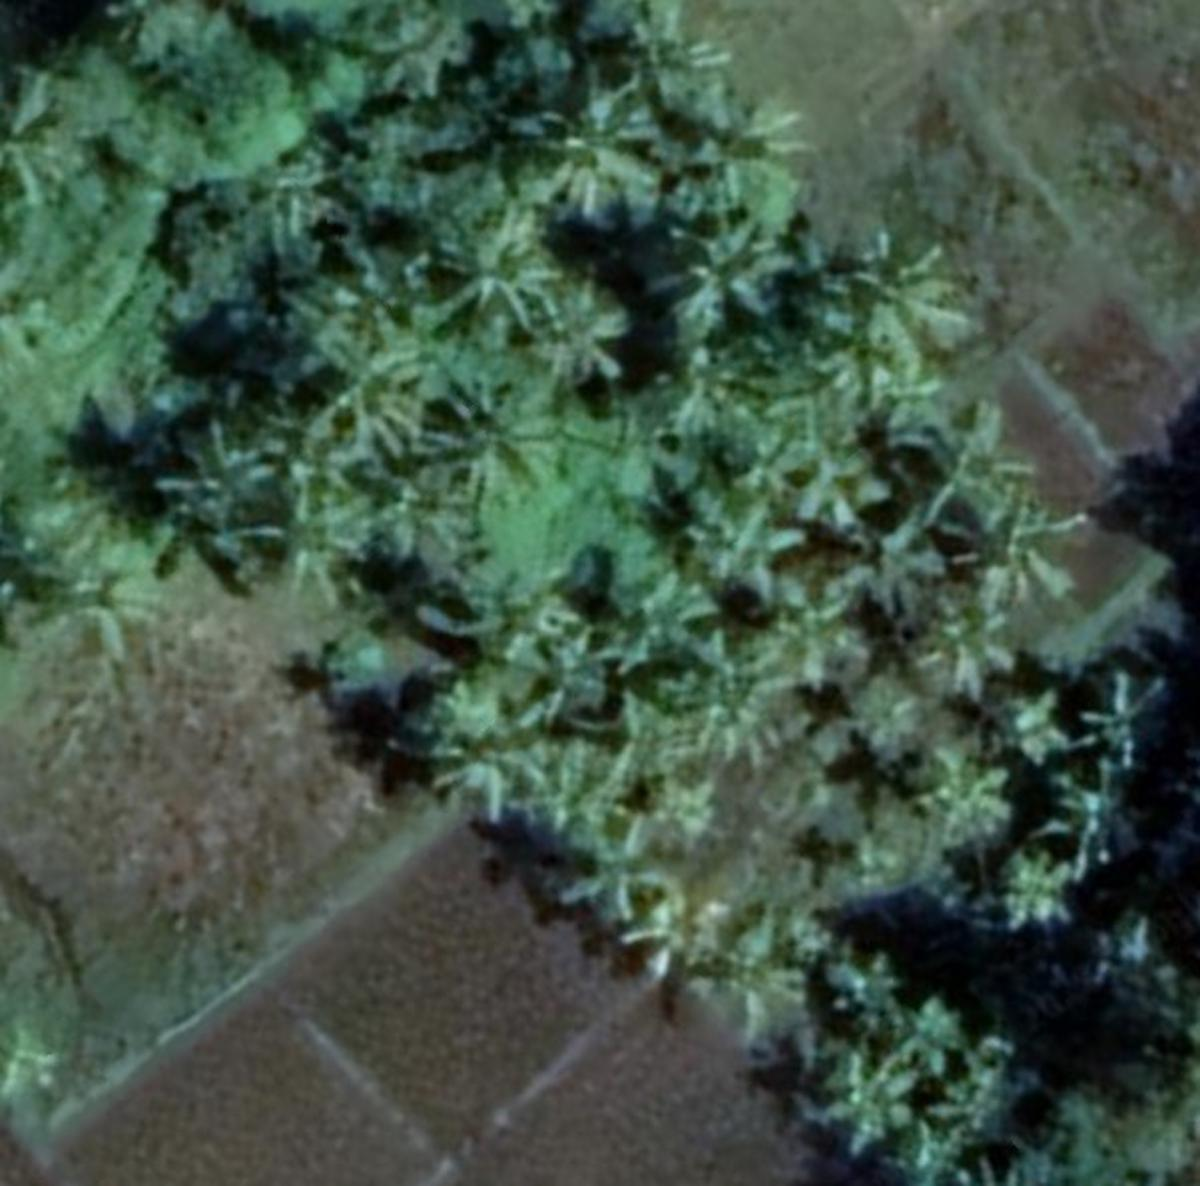coconut: (149, 414, 283, 575), (410, 378, 563, 512), (412, 681, 548, 821), (841, 227, 982, 358), (897, 400, 1038, 526), (948, 494, 1094, 605), (247, 482, 380, 600), (653, 225, 785, 342), (300, 335, 420, 458), (450, 209, 570, 330), (560, 821, 679, 942), (685, 499, 803, 617), (623, 883, 753, 986), (1038, 769, 1152, 885), (601, 566, 711, 673), (972, 843, 1088, 944), (516, 287, 629, 390), (1086, 663, 1182, 777), (813, 1052, 910, 1155), (924, 593, 1008, 695), (974, 681, 1060, 777)
